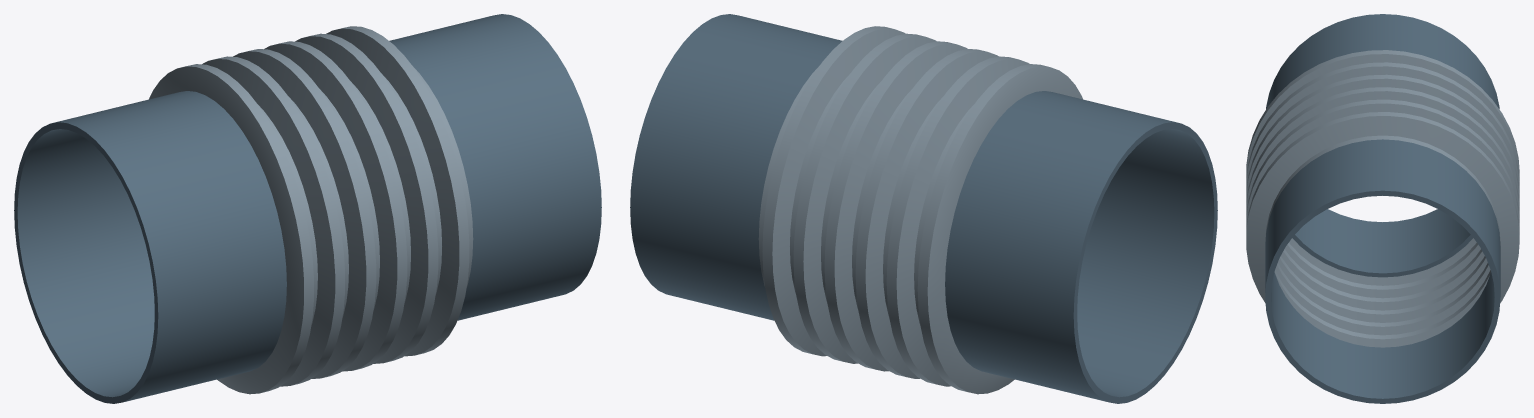
Rendered from silf-dn250-L485-D273.glb.
3 renders of one model, left to right at view 1: azimuth 30°, elevation 25°; view 2: azimuth 150°, elevation 25°; view 3: azimuth 270°, elevation 25°, orthographic. The views are drawn at different scales.
Parts seen in each view (by area): view 1: patrubok_1, prokladka_silfon_1, patrubok_2; view 2: patrubok_1, prokladka_silfon_1, patrubok_2; view 3: prokladka_silfon_1, patrubok_2, patrubok_1.
Part boxes in pixels (left/top/right/bottom): patrubok_1: left=14, top=91, right=286, bottom=403; prokladka_silfon_1: left=149, top=26, right=473, bottom=394; patrubok_2: left=389, top=14, right=601, bottom=320; patrubok_1: left=945, top=91, right=1217, bottom=403; prokladka_silfon_1: left=758, top=26, right=1082, bottom=394; patrubok_2: left=630, top=14, right=842, bottom=320; prokladka_silfon_1: left=1246, top=50, right=1519, bottom=347; patrubok_2: left=1265, top=139, right=1500, bottom=403; patrubok_1: left=1266, top=14, right=1499, bottom=277.
Size of the model in its own units: 485 by 318 by 317.
